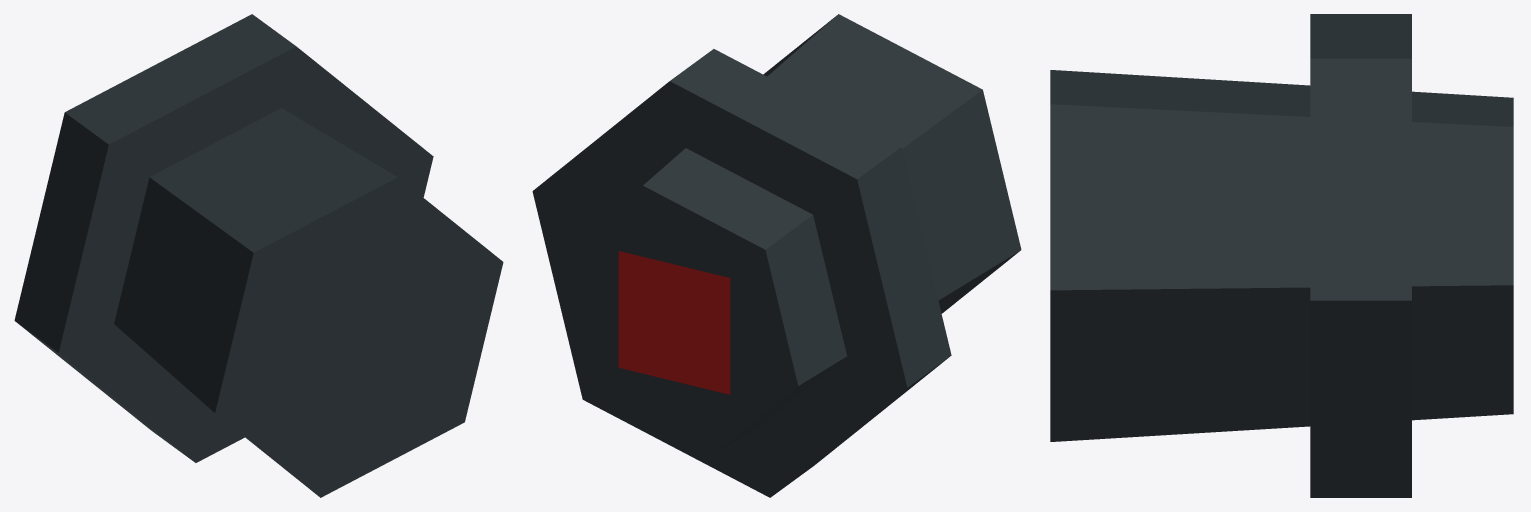
3 views of the same model, side by side, from view 1: azimuth 30°, elevation 25°; view 2: azimuth 150°, elevation 25°; view 3: azimuth 270°, elevation 25° (orthographic). The views are drawn at different scales.
Visible parts, largest first — view 1: mount; view 2: mount; view 3: mount.
Part boxes in pixels (left/top/right/bottom): mount: left=14, top=14, right=503, bottom=497; mount: left=532, top=14, right=1021, bottom=497; mount: left=1050, top=14, right=1513, bottom=497.
Size of the model in its own units: 4.9 by 4.9 by 4.59.
